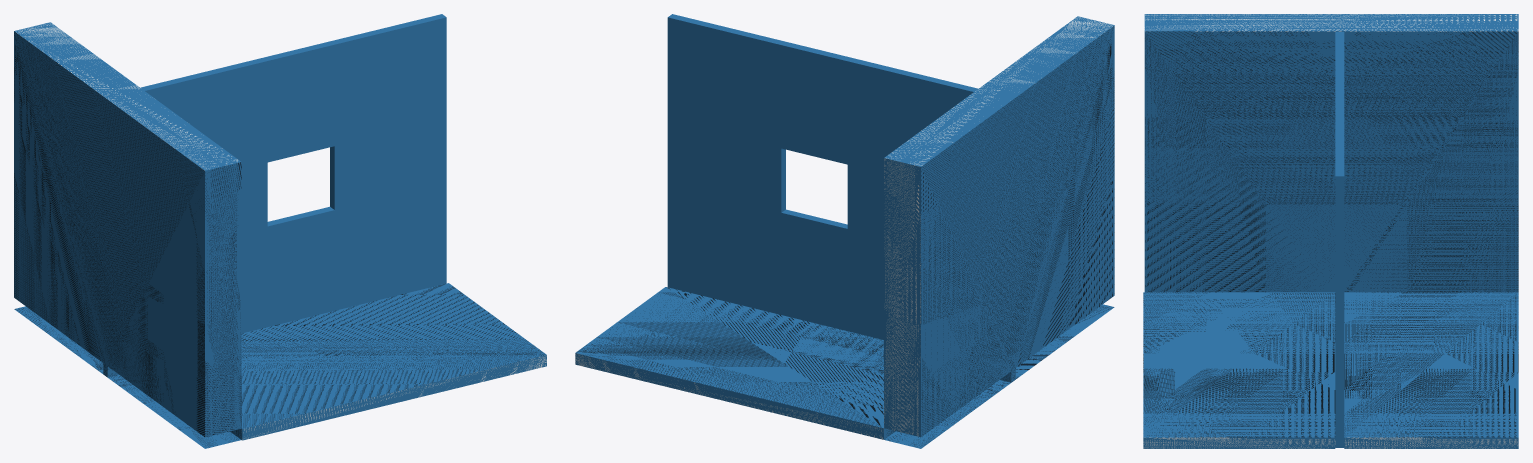
File: Easy_env.dae
The picture shows the model from 3 angles, left to right: view 1: azimuth 30°, elevation 25°; view 2: azimuth 150°, elevation 25°; view 3: azimuth 270°, elevation 25°; orthographic projection. The views are drawn at different scales.
Visible parts, largest first — view 1: SketchUp (×7), instance_0 (×2); view 2: SketchUp (×6), instance_0 (×2); view 3: SketchUp (×6), instance_0.
Part boxes in pixels (x1=…): SketchUp (×7): x1=14, y1=22, x2=546, y2=448; instance_0 (×2): x1=140, y1=14, x2=446, y2=333; SketchUp (×6): x1=575, y1=16, x2=1114, y2=448; instance_0 (×2): x1=667, y1=14, x2=977, y2=339; SketchUp (×6): x1=1143, y1=14, x2=1518, y2=448; instance_0: x1=1335, y1=32, x2=1344, y2=447.
Size of the model in its own units: 444 by 432 by 346.
